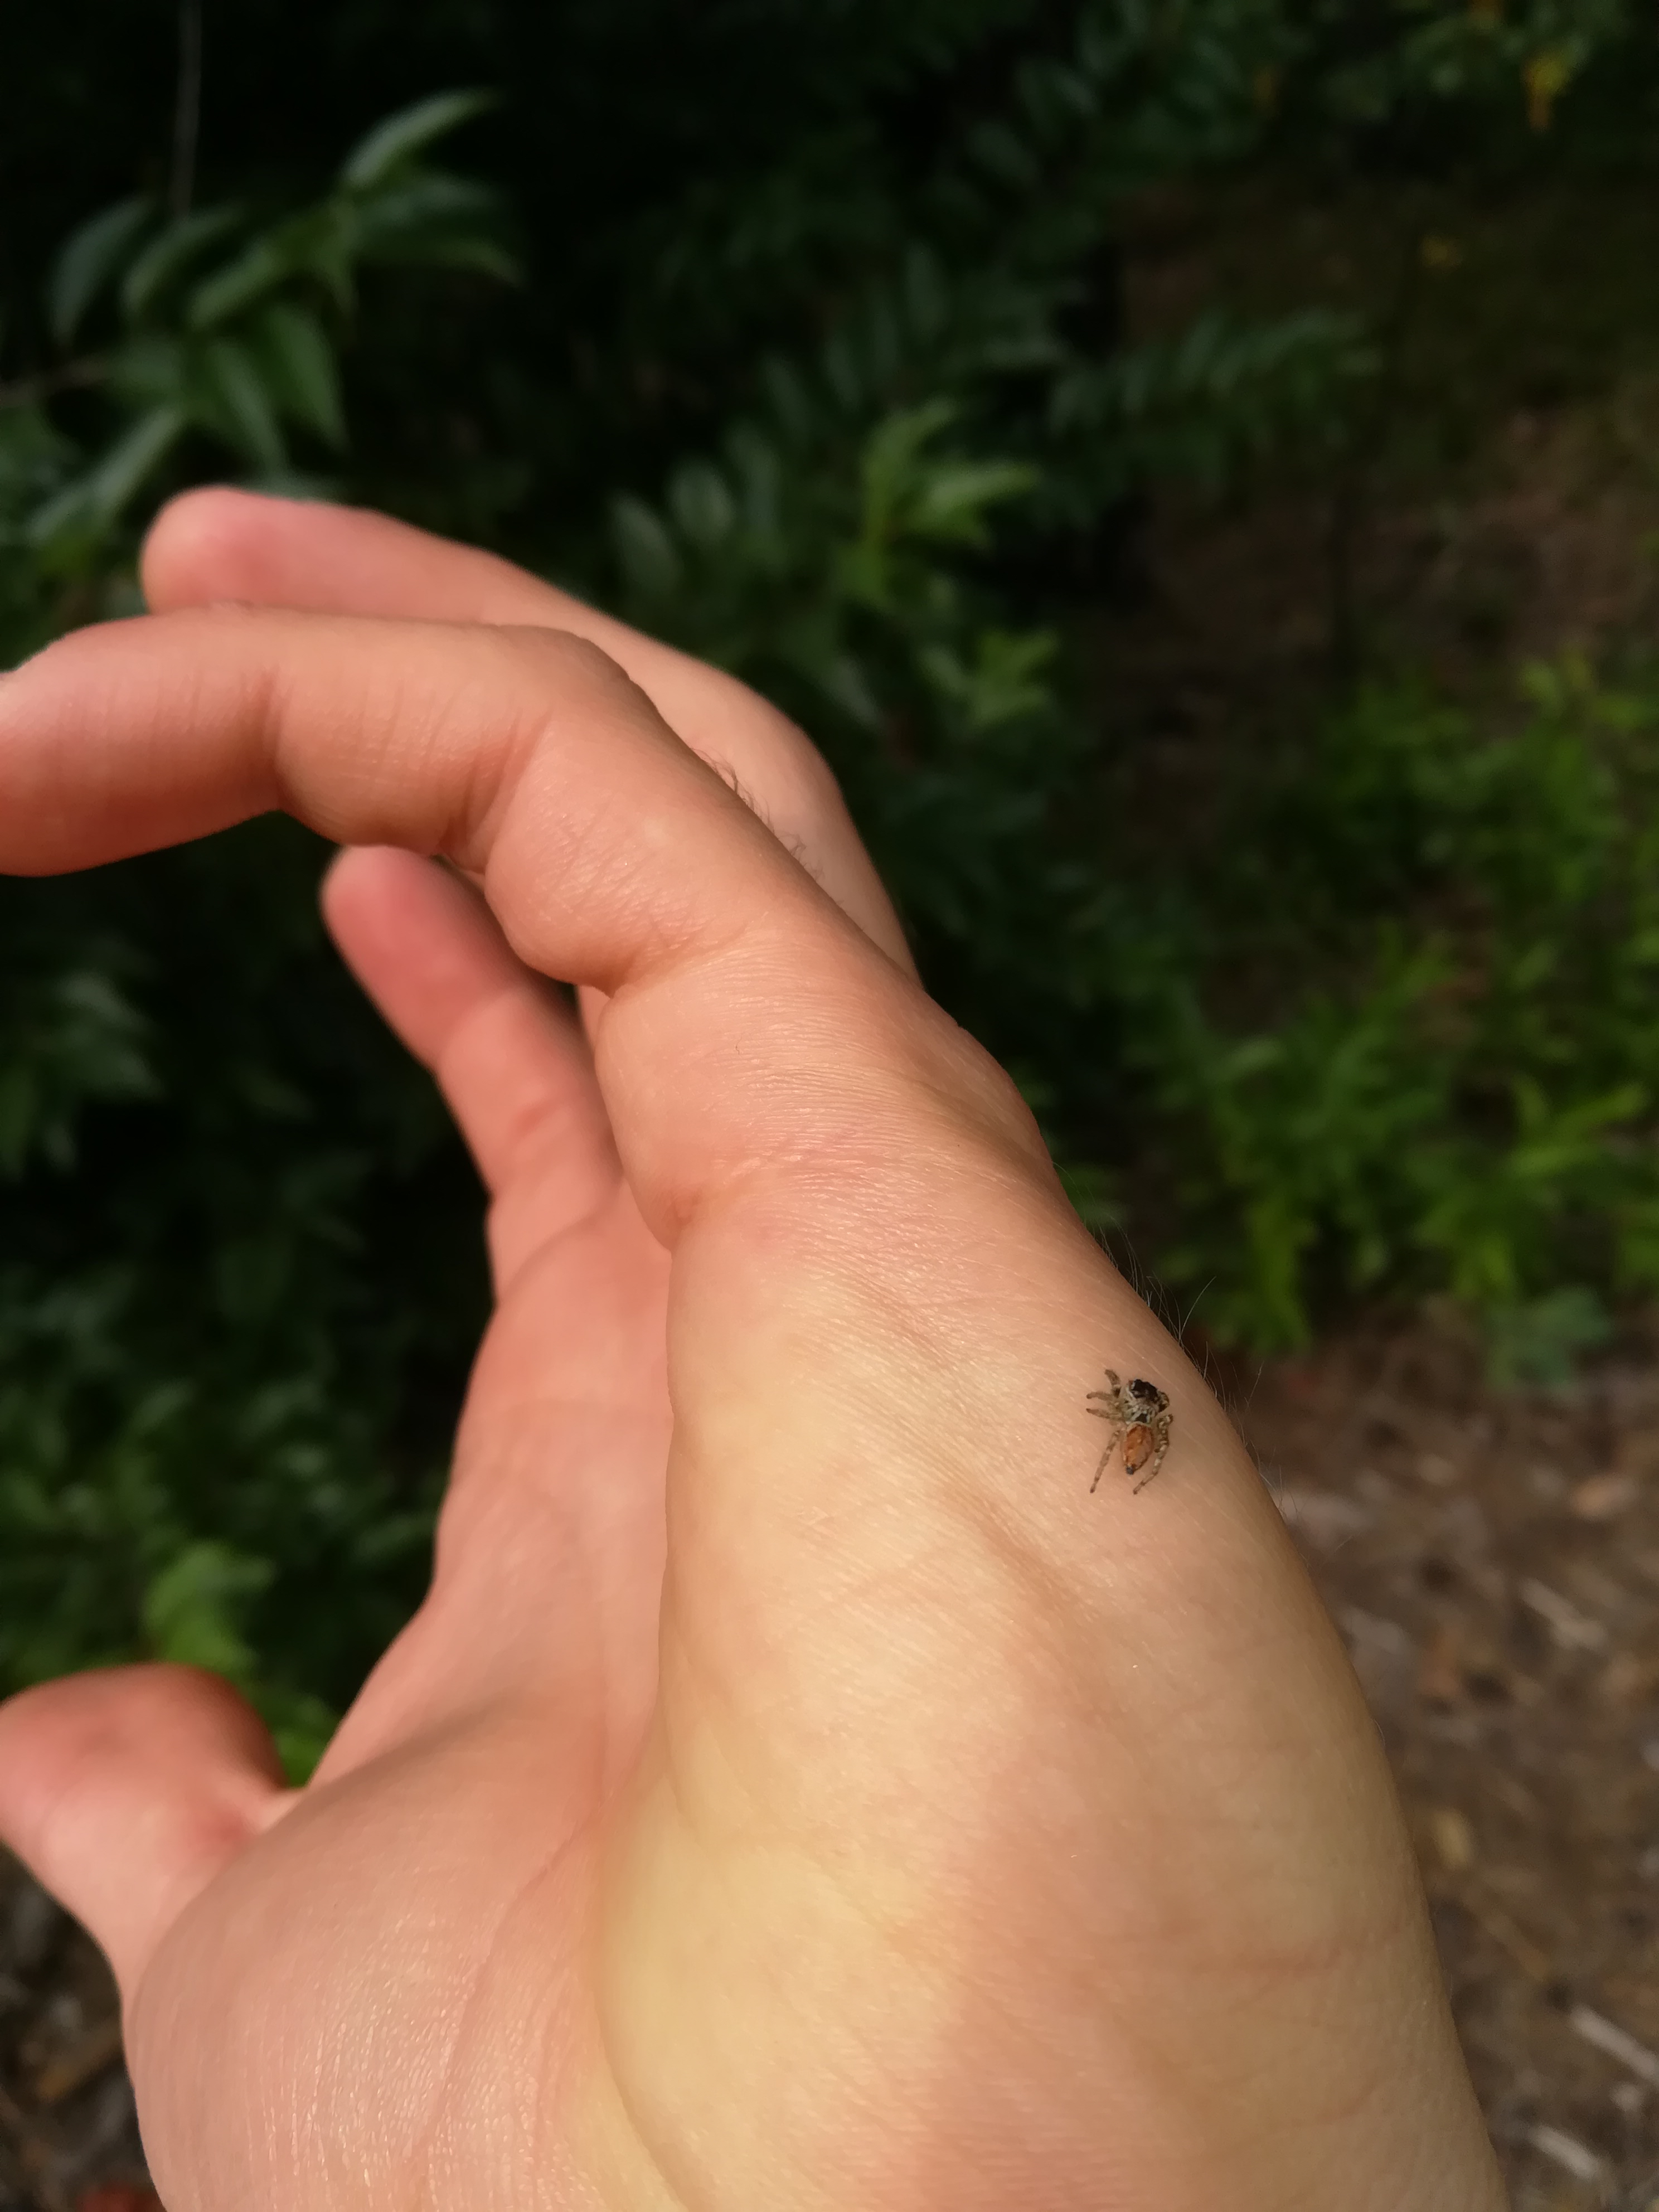spider: (1058, 1341, 1223, 1512)
